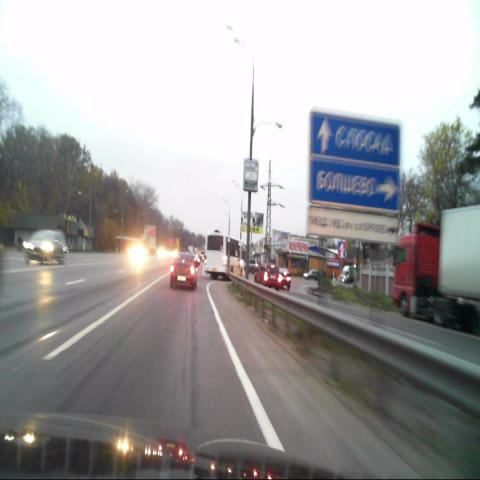5_6: (338, 242, 346, 258)
